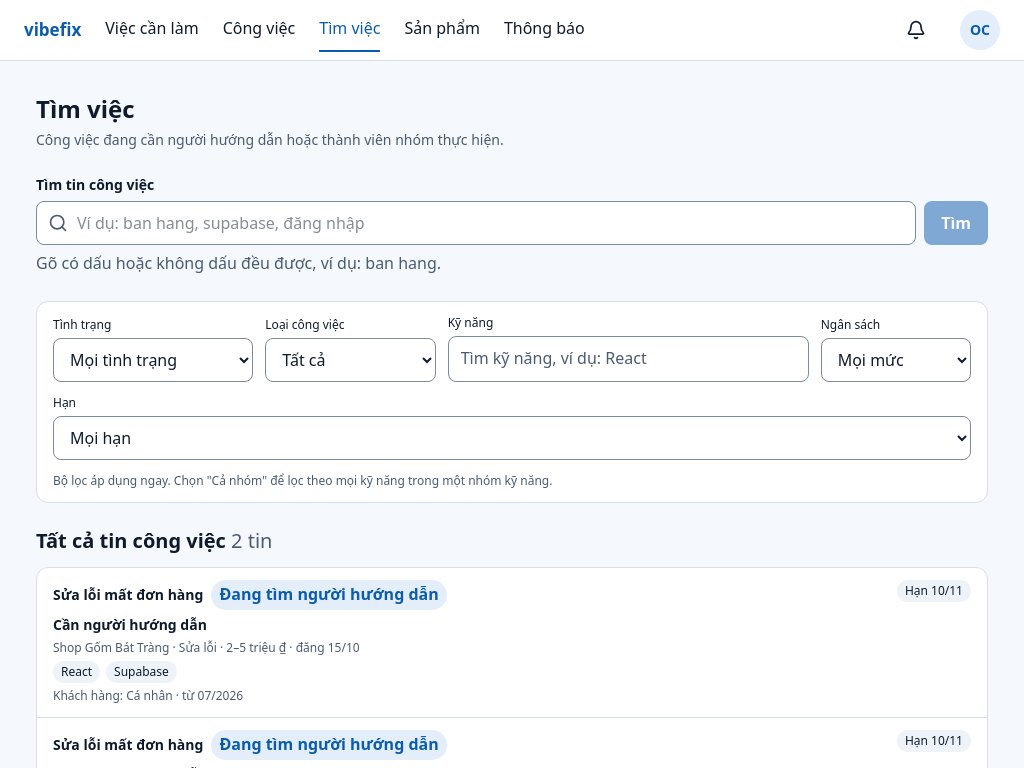
MEN-2, searching by keyword (FR-12, UX-DR47) › searches only on Enter, keeps the keyword in the URL, and clears it
The width and height of the screenshot is (1024, 768).
Expected: the text "Gõ có dấu hoặc không dấu đều được, ví dụ: ban hang." is shown, top-left (36, 252), bottom-right (441, 274)
Expected: the button "Tìm" is disabled, top-left (924, 201), bottom-right (988, 245)
Type "ban hang" into the search field labelled "Tìm tin công việc" at (476, 223), box top-left (36, 201), bottom-right (916, 245)
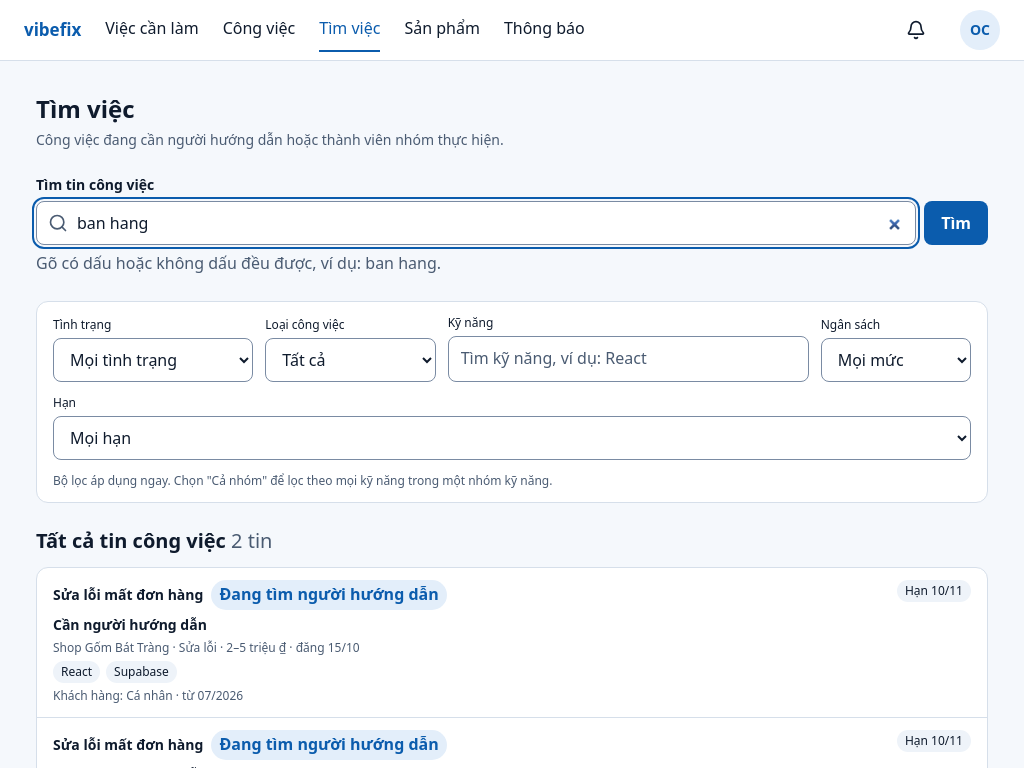
Press Enter
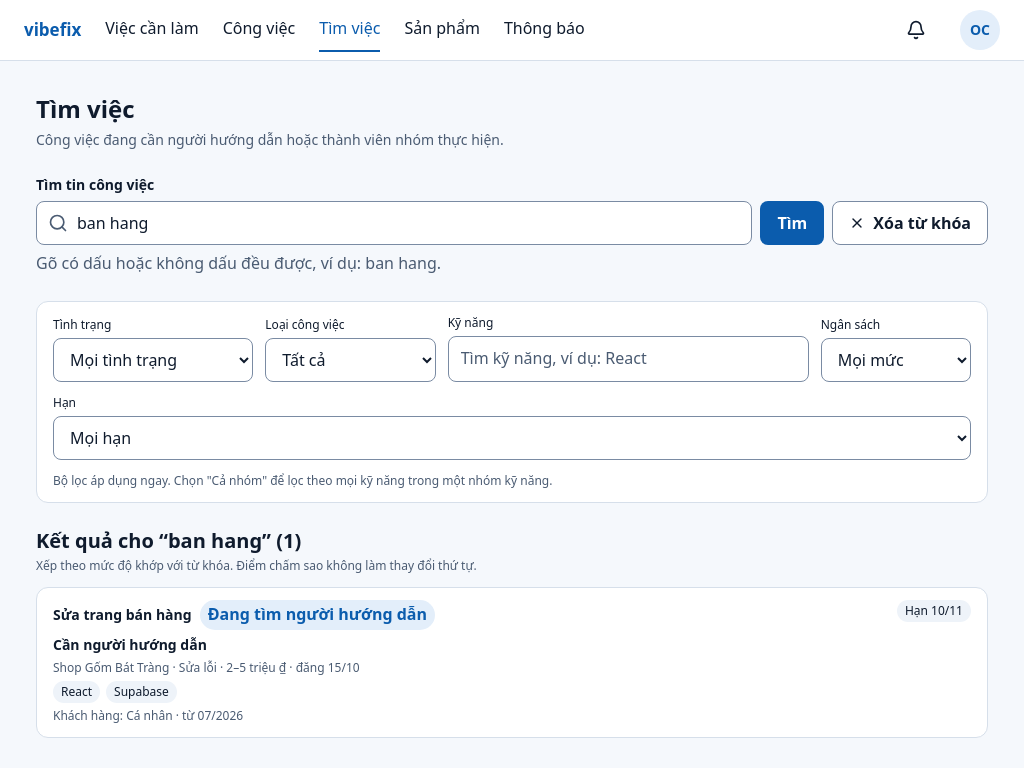
Expected: the heading "Kết quả cho “ban hang” (1)" is shown, top-left (36, 527), bottom-right (301, 554)
Expected: the text "Xếp theo mức độ khớp với từ khóa. Điểm chấm sao không làm thay đổi thứ tự." is shown, top-left (36, 557), bottom-right (477, 574)
Expected: the heading "Tất cả tin công việc" is gone
Click the button "Xóa từ khóa" at (910, 223), box top-left (832, 201), bottom-right (988, 245)
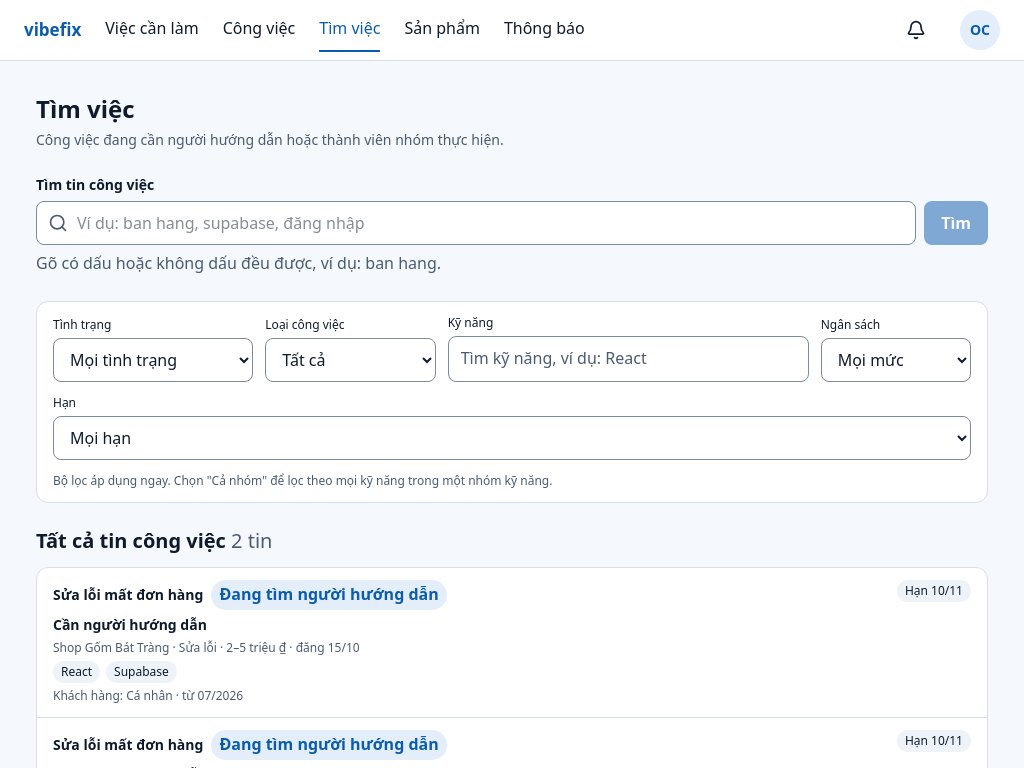
Expected: the heading "Tất cả tin công việc 2 tin" is shown, top-left (36, 527), bottom-right (272, 554)
Expected: the search field labelled "Tìm tin công việc" is empty, top-left (36, 201), bottom-right (916, 245)
